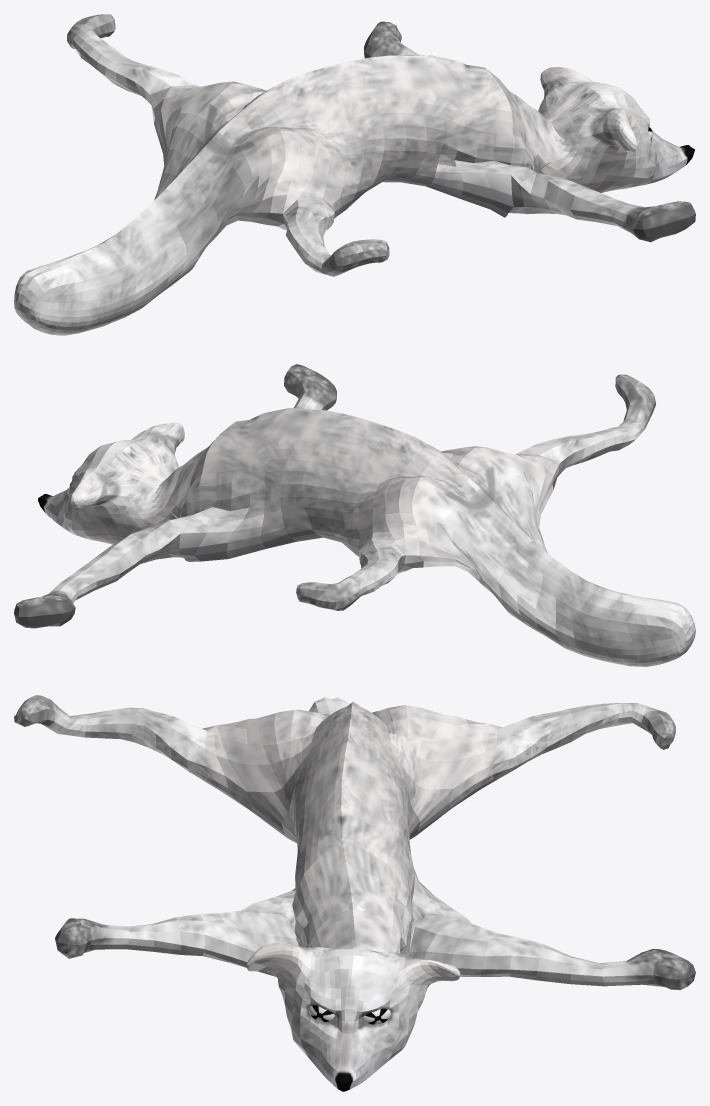
The model's file is fox_dead.fbx.
3 views of the same model, one above another, from view 1: azimuth 30°, elevation 25°; view 2: azimuth 150°, elevation 25°; view 3: azimuth 270°, elevation 25° (orthographic). The views are drawn at different scales.
Parts seen in each view (by area): view 1: DeadFox.001; view 2: DeadFox.001; view 3: DeadFox.001.
Boxes of the visible parts, left/top/right/bottom form: DeadFox.001: left=14, top=14, right=695, bottom=335; DeadFox.001: left=14, top=364, right=695, bottom=666; DeadFox.001: left=14, top=695, right=695, bottom=1091.
Size of the model in its own units: 684 by 190 by 563.
